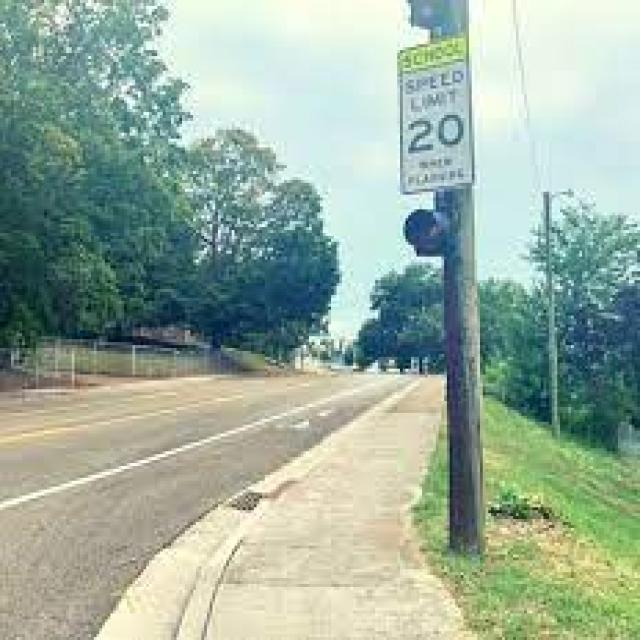speedLimit20: (394, 59, 469, 150)
